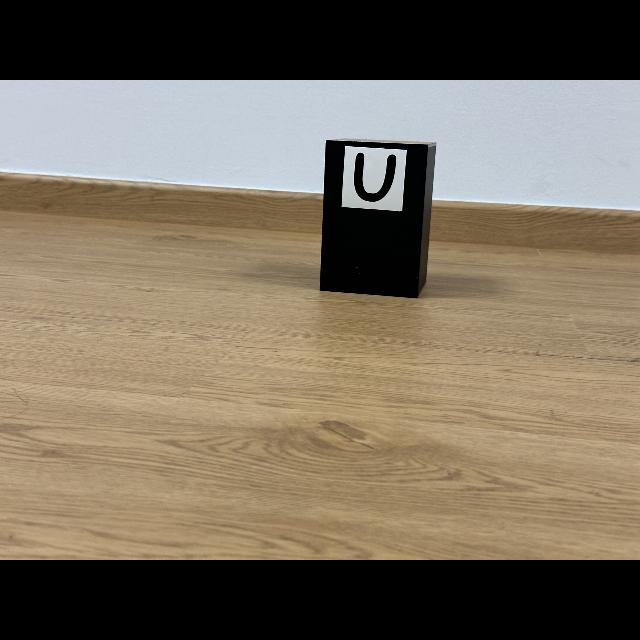U: (354, 152, 396, 202)
